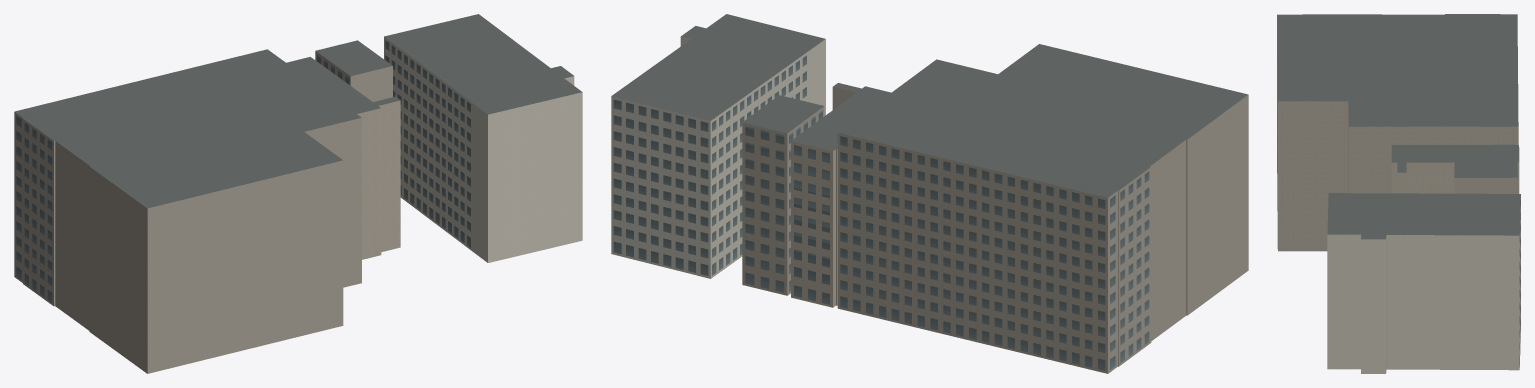
The picture shows the model from 3 angles, left to right: view 1: azimuth 30°, elevation 25°; view 2: azimuth 150°, elevation 25°; view 3: azimuth 270°, elevation 25°; orthographic projection. The views are drawn at different scales.
Parts seen in each view (by area): view 1: cell-e004-s001_base_tile-wall, cell-e004-s001_base_roof, cell-e004-s001_base_plaster, cell-e004-s001_base_glass, cell-e004-s001_base_stone; view 2: cell-e004-s001_base_tile-wall, cell-e004-s001_base_roof, cell-e004-s001_base_glass, cell-e004-s001_base_plaster, cell-e004-s001_base_stone; view 3: cell-e004-s001_base_roof, cell-e004-s001_base_plaster, cell-e004-s001_base_tile-wall, cell-e004-s001_base_stone.
Boxes of the visible parts, x1,y1,x2,y2 form: cell-e004-s001_base_tile-wall: (14,51,392,373); cell-e004-s001_base_roof: (14,14,582,208); cell-e004-s001_base_plaster: (384,36,582,262); cell-e004-s001_base_glass: (16,40,470,302); cell-e004-s001_base_stone: (357,100,400,259); cell-e004-s001_base_tile-wall: (742,95,1248,373); cell-e004-s001_base_roof: (612,14,1248,197); cell-e004-s001_base_glass: (613,55,1149,370); cell-e004-s001_base_plaster: (611,36,825,278); cell-e004-s001_base_stone: (791,87,855,307); cell-e004-s001_base_roof: (1277,14,1520,239); cell-e004-s001_base_plaster: (1327,197,1520,373); cell-e004-s001_base_tile-wall: (1277,24,1518,251); cell-e004-s001_base_stone: (1391,162,1519,193).
Size of the model in its own units: 107 by 35.7 by 52.61.
5 materials, 4 textured.
